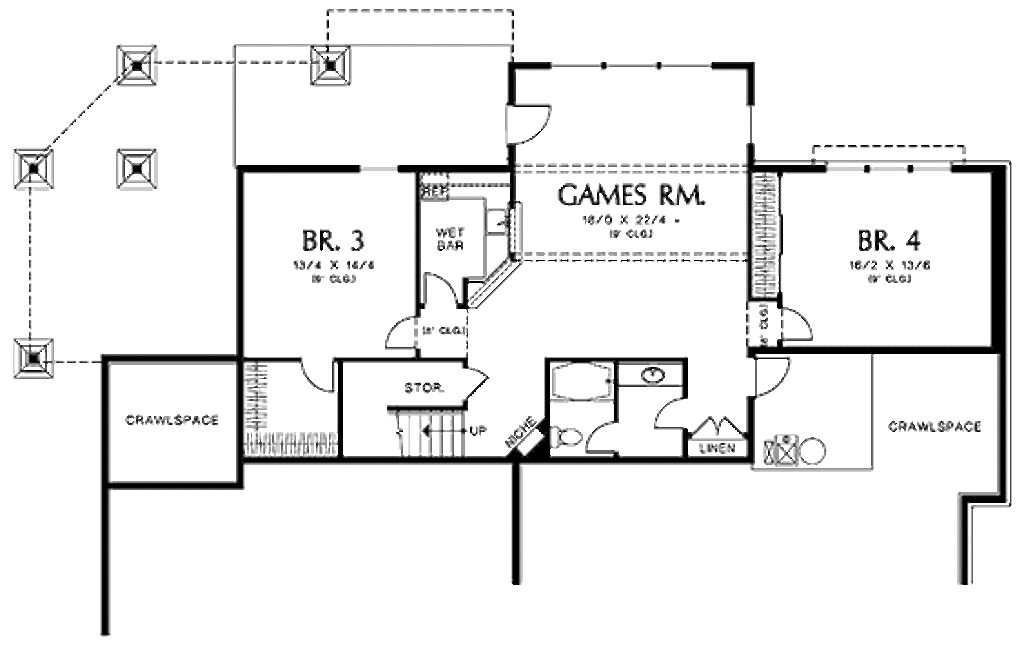door: (498, 101, 553, 153), (292, 351, 338, 394), (420, 269, 462, 313), (751, 354, 793, 397), (780, 304, 822, 344), (587, 416, 620, 456), (382, 314, 416, 351), (463, 363, 491, 404), (691, 418, 747, 438), (655, 400, 686, 432)
large_sink: (542, 423, 580, 456)
small_sink: (618, 358, 687, 388)
stairs: (388, 398, 476, 455)
tub: (547, 358, 617, 401)
window: (357, 164, 401, 179)
